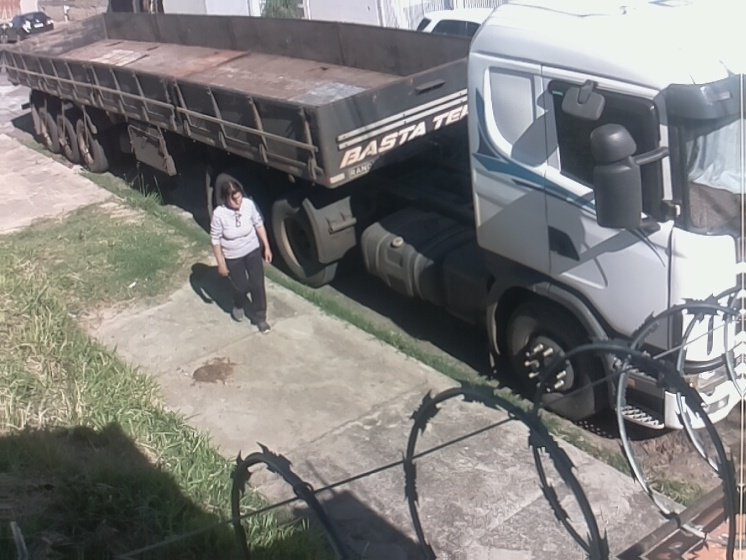person: (210, 180, 275, 335)
